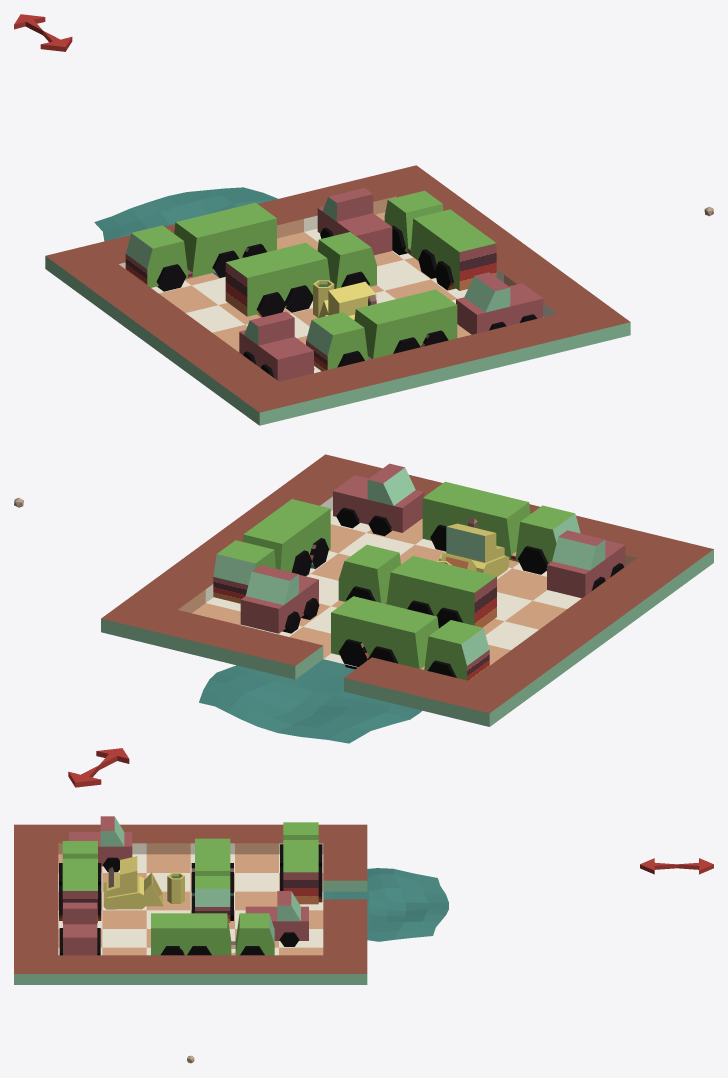
The model's file is rushhours.gltf.
The picture shows the model from 3 angles, top to bottom: view 1: azimuth 30°, elevation 25°; view 2: azimuth 150°, elevation 25°; view 3: azimuth 270°, elevation 25°; orthographic projection. The views are drawn at different scales.
Visible parts, largest first — view 1: Grid, Cube.007, Cube.005, Cube.006, Cube.001, Grid.001, Cube.009, Cube.008, Cube, Cube.002; view 2: Grid, Grid.001, Cube.007, Cube.005, Cube.006, Cube.001, Cube.009, Cube, Cube.008, Cube.002, Cube.003; view 3: Grid, Grid.001, Cube.001, Cube.007, Cube.005, Cube.006, Cube.009, Cube, Cube.008, Cube.002, Cube.003, Cylinder (+1 smaller).
Part boxes in pixels (x1=…): Grid: x1=45, y1=165, x2=630, y2=425; Cube.007: x1=125, y1=202, x2=276, y2=291; Cube.005: x1=225, y1=232, x2=376, y2=317; Cube.006: x1=306, y1=289, x2=457, y2=371; Cube.001: x1=384, y1=190, x2=496, y2=290; Grid.001: x1=94, y1=187, x2=277, y2=241; Cube.009: x1=456, y1=272, x2=543, y2=334; Cube.008: x1=239, y1=311, x2=314, y2=381; Cube: x1=317, y1=188, x2=392, y2=255; Cube.002: x1=328, y1=281, x2=376, y2=319; Grid: x1=101, y1=454, x2=713, y2=726; Grid.001: x1=199, y1=659, x2=422, y2=743; Cube.007: x1=331, y1=596, x2=489, y2=680; Cube.005: x1=338, y1=544, x2=496, y2=628; Cube.006: x1=422, y1=481, x2=580, y2=574; Cube.001: x1=213, y1=499, x2=330, y2=603; Cube.009: x1=333, y1=463, x2=424, y2=536; Cube: x1=240, y1=565, x2=319, y2=633; Cube.008: x1=547, y1=530, x2=625, y2=598; Cube.002: x1=446, y1=517, x2=504, y2=562; Cube.003: x1=439, y1=551, x2=509, y2=576; Grid: x1=14, y1=824, x2=367, y2=984; Grid.001: x1=323, y1=868, x2=448, y2=941; Cube.001: x1=151, y1=913, x2=274, y2=955; Cube.007: x1=280, y1=822, x2=322, y2=904; Cube.005: x1=191, y1=838, x2=233, y2=922; Cube.006: x1=59, y1=841, x2=101, y2=922; Cube.009: x1=59, y1=902, x2=100, y2=955; Cube: x1=245, y1=891, x2=308, y2=946; Cube.008: x1=69, y1=816, x2=132, y2=872; Cube.002: x1=106, y1=856, x2=137, y2=896; Cube.003: x1=103, y1=876, x2=145, y2=909; Cylinder: x1=167, y1=872, x2=184, y2=903.
Size of the model in its own units: 12.09 by 1.34 by 15.85.
Materials: 1 (1 with a texture image).
